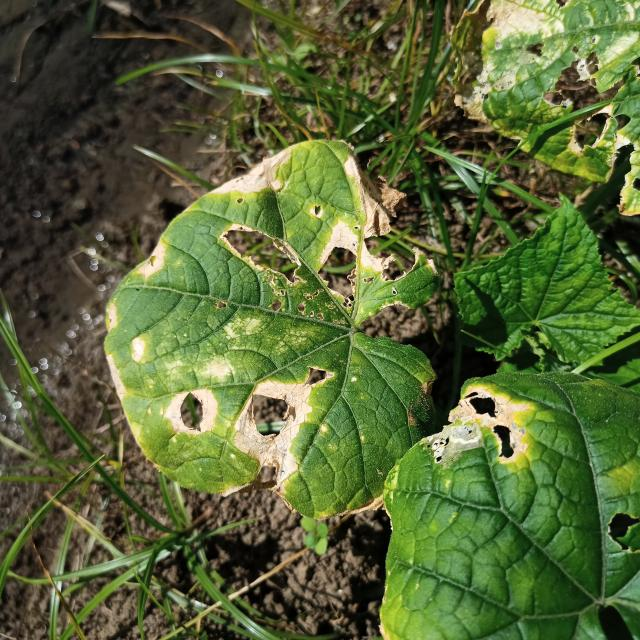disease_cucumber: (111, 155, 401, 483), (451, 382, 538, 475)
